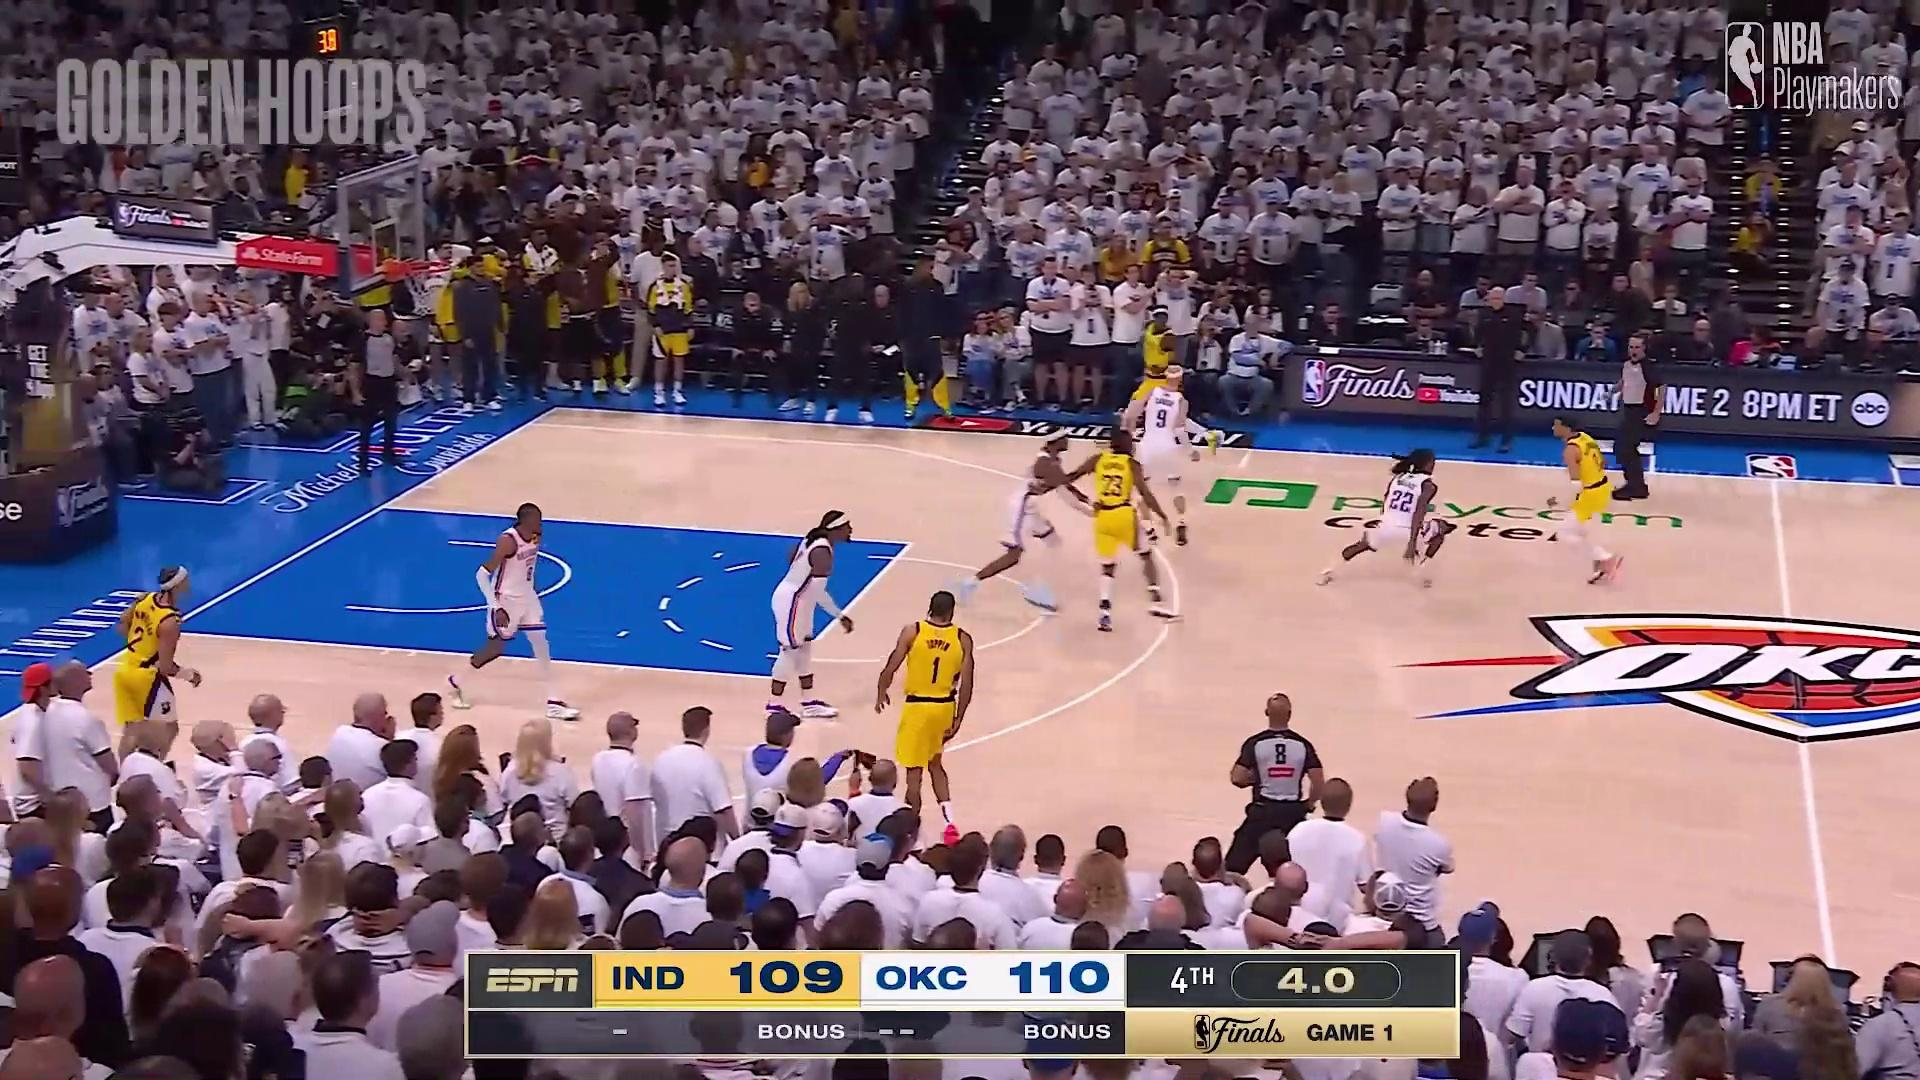hoop: (394, 256, 463, 323)
